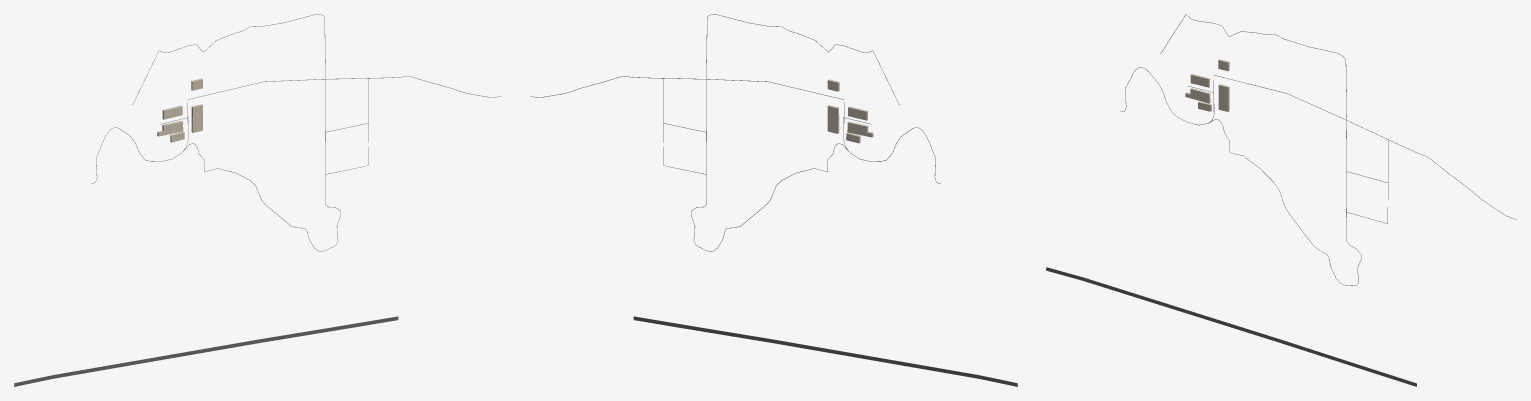
Rendered from historic-palestine-13_24_3548_3180.glb.
3 views of the same model, side by side, from view 1: azimuth 30°, elevation 25°; view 2: azimuth 150°, elevation 25°; view 3: azimuth 330°, elevation 25° (orthographic). The views are drawn at different scales.
Visible parts, largest first — view 1: Road 1, Road .002, Road; view 2: Road 1, Road .002, Road; view 3: Road 1, Road .002, Road.
Boxes of the visible parts, box(x1,y1,x2,y2) form: Road 1: box(14, 316, 398, 386); Road .002: box(132, 14, 340, 251); Road: box(91, 76, 501, 183); Road 1: box(633, 316, 1017, 386); Road .002: box(691, 14, 899, 251); Road: box(530, 76, 940, 183); Road 1: box(1046, 267, 1416, 386); Road .002: box(1160, 14, 1361, 285); Road: box(1120, 67, 1516, 219).
Size of the model in its own units: 1647 by 1065 by 8.7.
